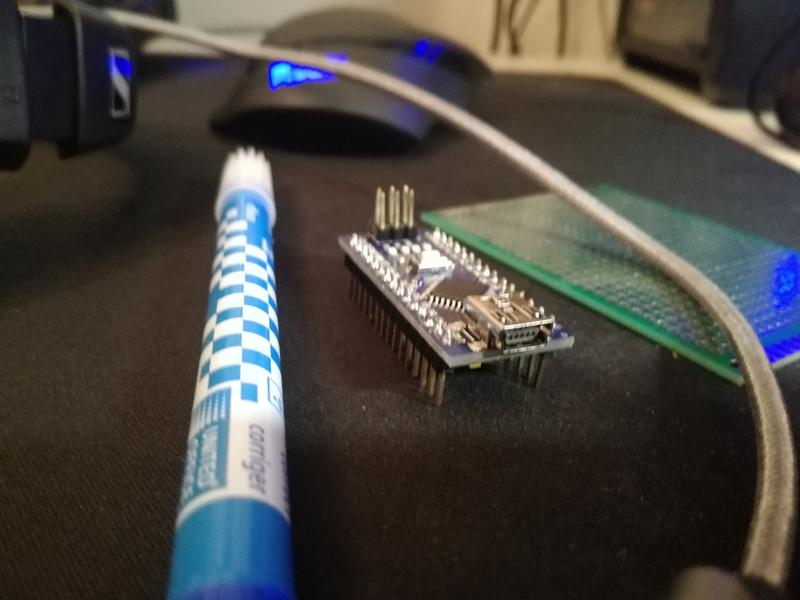Arduino_Nano: (337, 175, 577, 427)
